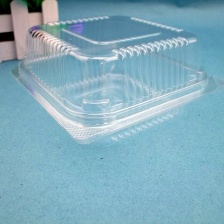plastic_box: (5, 6, 223, 154)
